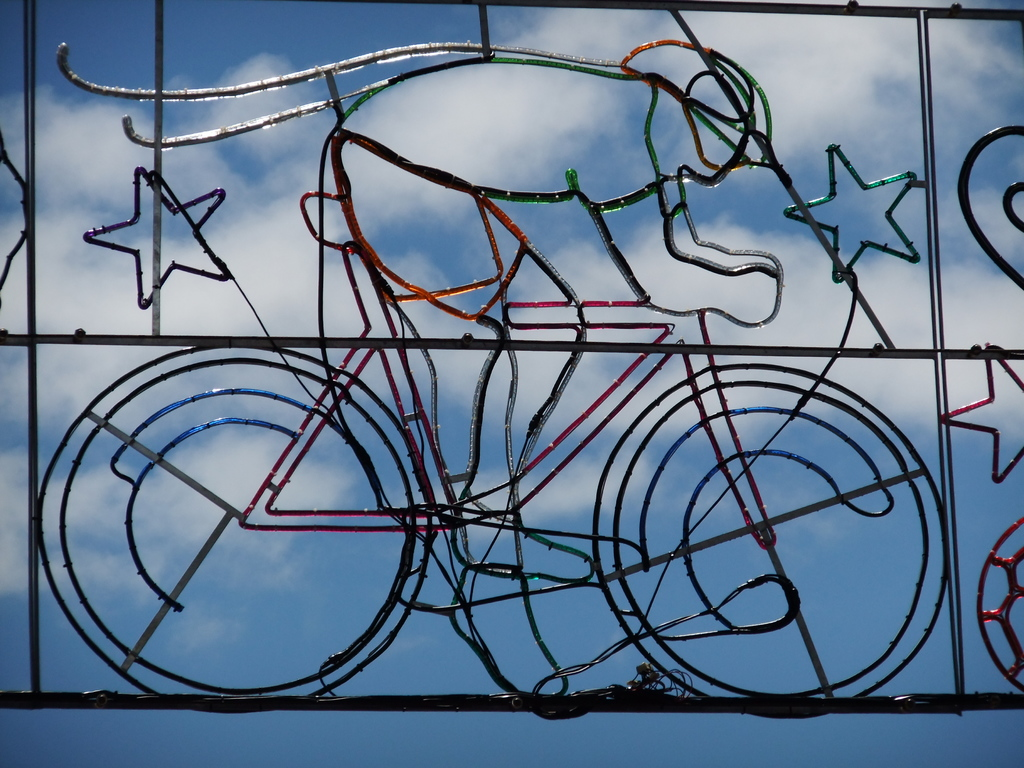Bicycle: (71, 21, 970, 705)
